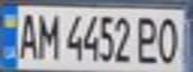2: (112, 12, 136, 64)
4: (63, 10, 84, 62), (81, 11, 100, 62)
5: (97, 11, 118, 63)
A: (15, 9, 39, 61)
M: (33, 9, 60, 61)
O: (154, 12, 184, 65)
P: (136, 12, 163, 64)
